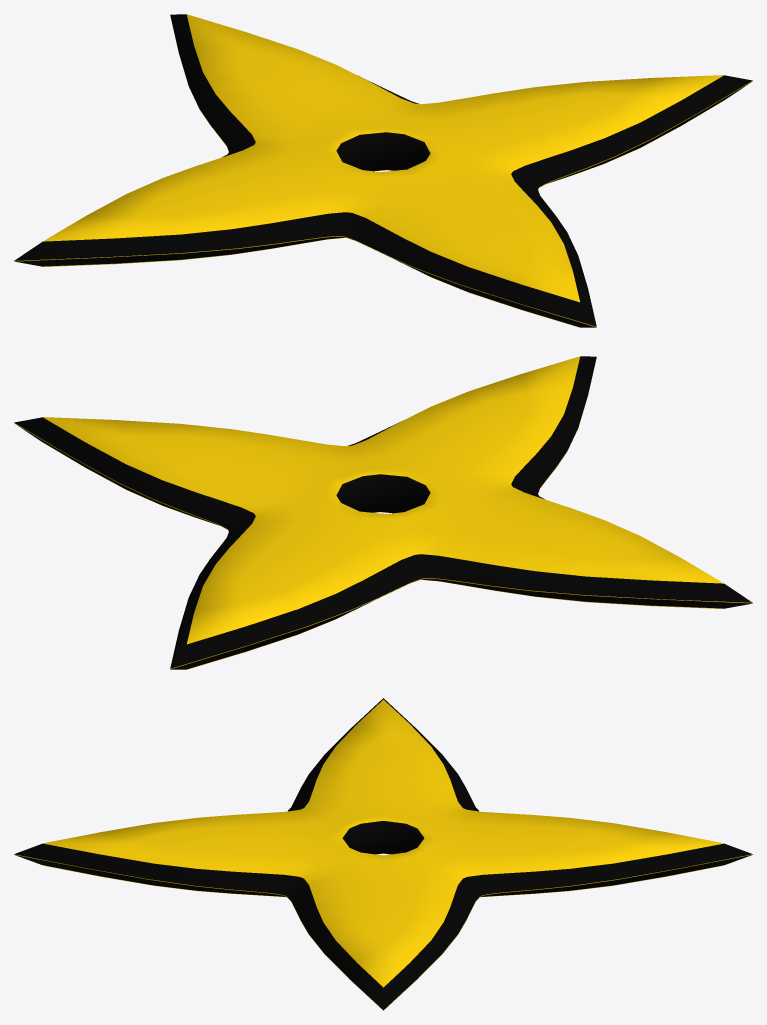
The model's file is Gold.fbx.
3 views of the same model, one above another, from view 1: azimuth 30°, elevation 25°; view 2: azimuth 150°, elevation 25°; view 3: azimuth 270°, elevation 25° (orthographic). The views are drawn at different scales.
Visible parts, largest first — view 1: shuriken_Gold; view 2: shuriken_Gold; view 3: shuriken_Gold.
Boxes of the visible parts, x1,y1,x2,y2 form: shuriken_Gold: [14, 14, 752, 327]; shuriken_Gold: [14, 356, 752, 669]; shuriken_Gold: [14, 698, 752, 1010].
Bounding box in the file's own units: 10.05 × 0.4912 × 10.05.
